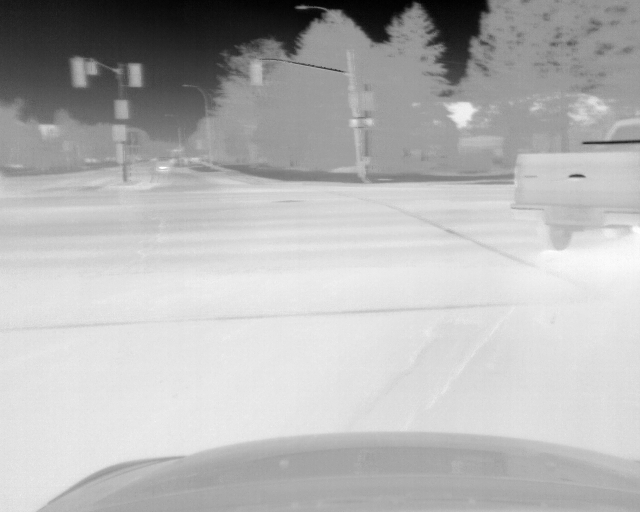car: (512, 115, 640, 253), (153, 158, 171, 174)
